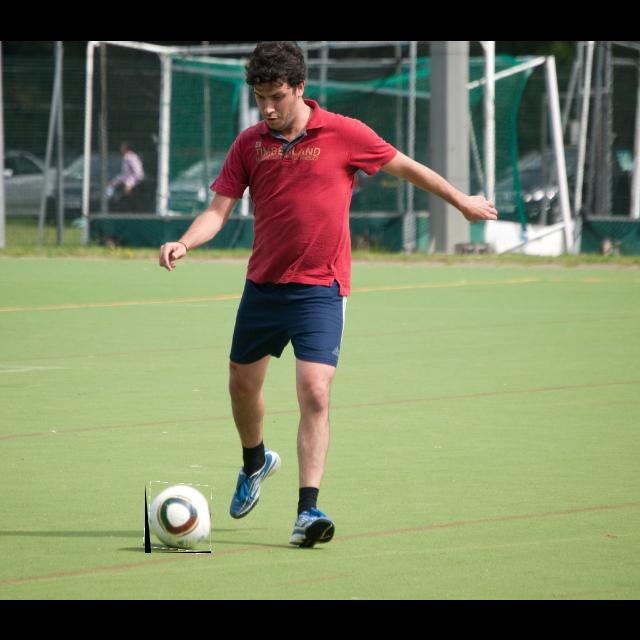Football: (145, 483, 211, 553)
